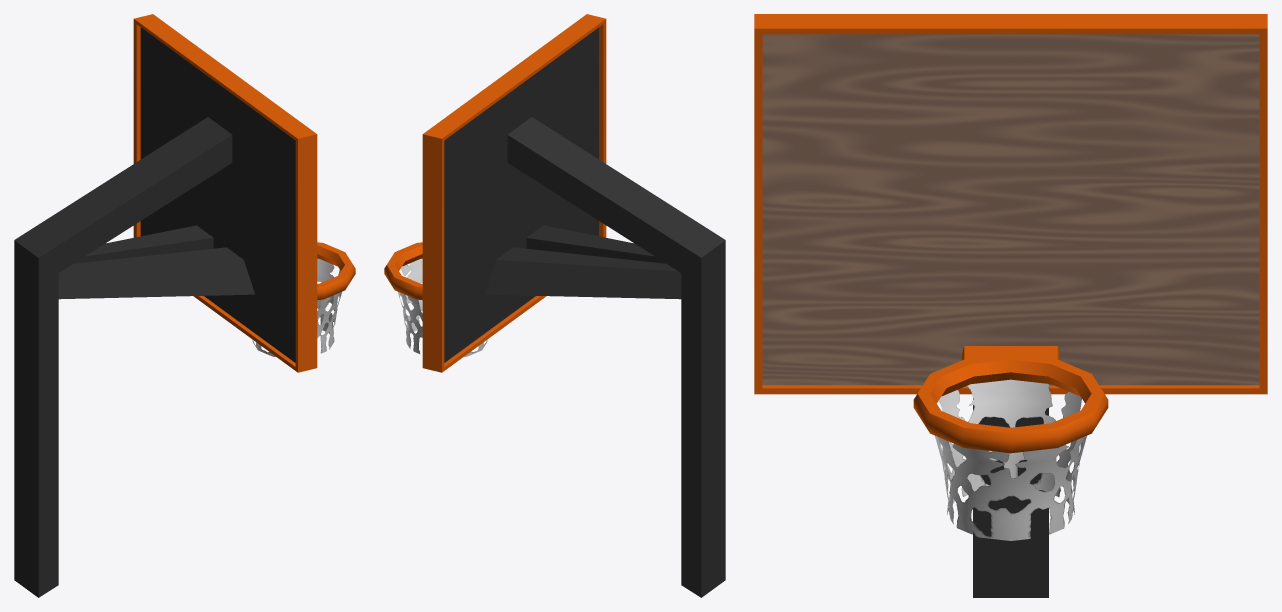
Rendered from Hoop.fbx.
3 renders of one model, left to right at view 1: azimuth 30°, elevation 25°; view 2: azimuth 150°, elevation 25°; view 3: azimuth 270°, elevation 25°, orthographic. The views are drawn at different scales.
Parts seen in each view (by area): view 1: Hoop; view 2: Hoop; view 3: Hoop.
Part boxes in pixels (x1=…): Hoop: x1=14, y1=14, x2=355, y2=597; Hoop: x1=384, y1=14, x2=725, y2=597; Hoop: x1=754, y1=14, x2=1267, y2=597.
Size of the model in its own units: 113 by 156 by 100.
